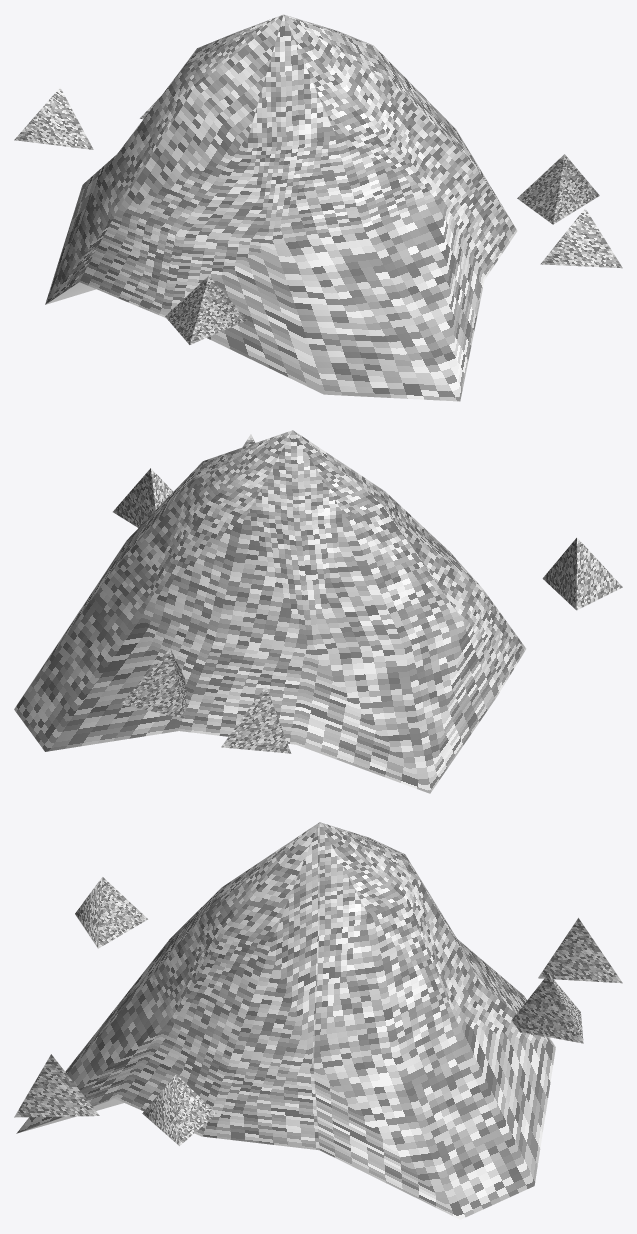
Rendered from cacao.obj.
3 views of the same model, one above another, from view 1: azimuth 30°, elevation 25°; view 2: azimuth 150°, elevation 25°; view 3: azimuth 270°, elevation 25° (orthographic). The views are drawn at different scales.
Parts seen in each view (by area): view 1: Cylinder01, Box01, Duplicate02, Duplicate01, Duplicate03; view 2: Cylinder01, Duplicate02, Duplicate04, Duplicate03, Box01; view 3: Cylinder01, Duplicate04, Duplicate01, Box01, Duplicate03, Duplicate02.
Boxes of the visible parts, x1,y1,x2,y2 form: Cylinder01: (45, 14, 517, 401); Box01: (517, 154, 599, 224); Duplicate02: (165, 276, 247, 344); Duplicate01: (540, 208, 622, 268); Duplicate03: (14, 87, 93, 149); Cylinder01: (14, 430, 526, 793); Duplicate02: (542, 537, 622, 610); Duplicate04: (121, 648, 186, 718); Duplicate03: (221, 686, 291, 753); Box01: (113, 468, 173, 527); Cylinder01: (16, 822, 555, 1219); Duplicate04: (511, 973, 583, 1043); Duplicate01: (14, 1054, 99, 1117); Box01: (142, 1074, 216, 1145); Duplicate03: (538, 918, 622, 983); Duplicate02: (75, 877, 147, 948).
Size of the model in its own units: 22.69 by 13.5 by 25.12.
